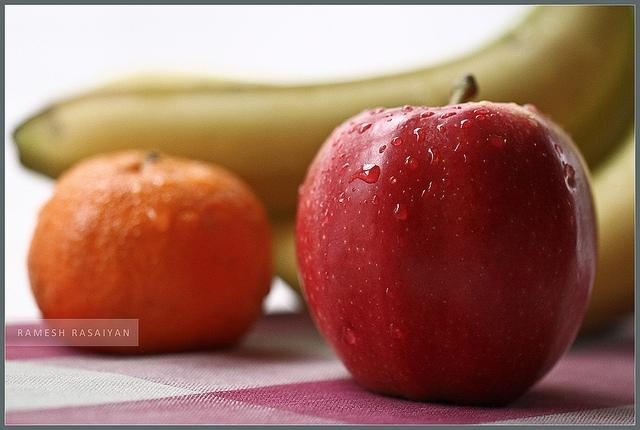apple: (294, 75, 600, 408)
banana: (15, 5, 634, 214), (271, 120, 635, 336)
